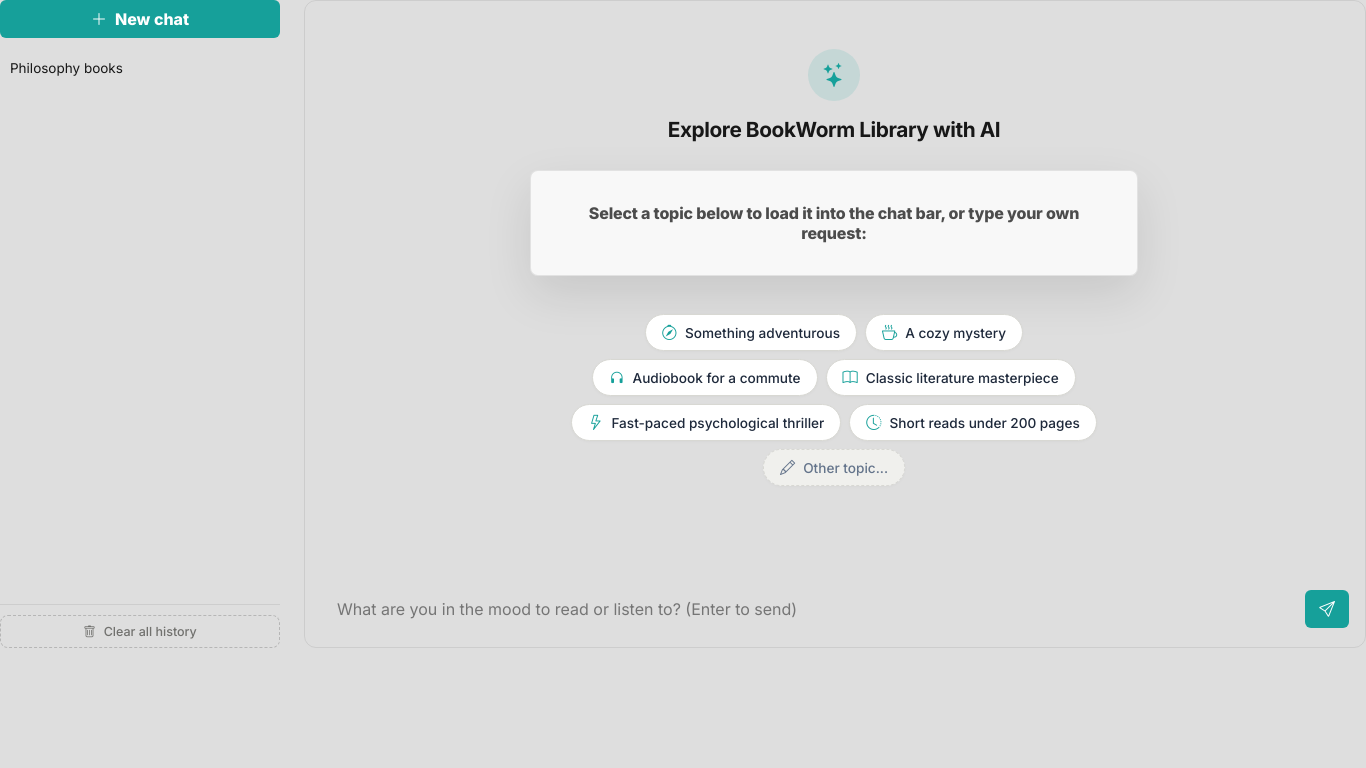
AiSuggestionsPage - Guided Quick Replies & Dynamic Thinking › active conversation displays header bar with Delete chat button
// Open conversation from sidebar
Click the button "Philosophy books": {"x": 127, "y": 68} [10, 52, 244, 84]
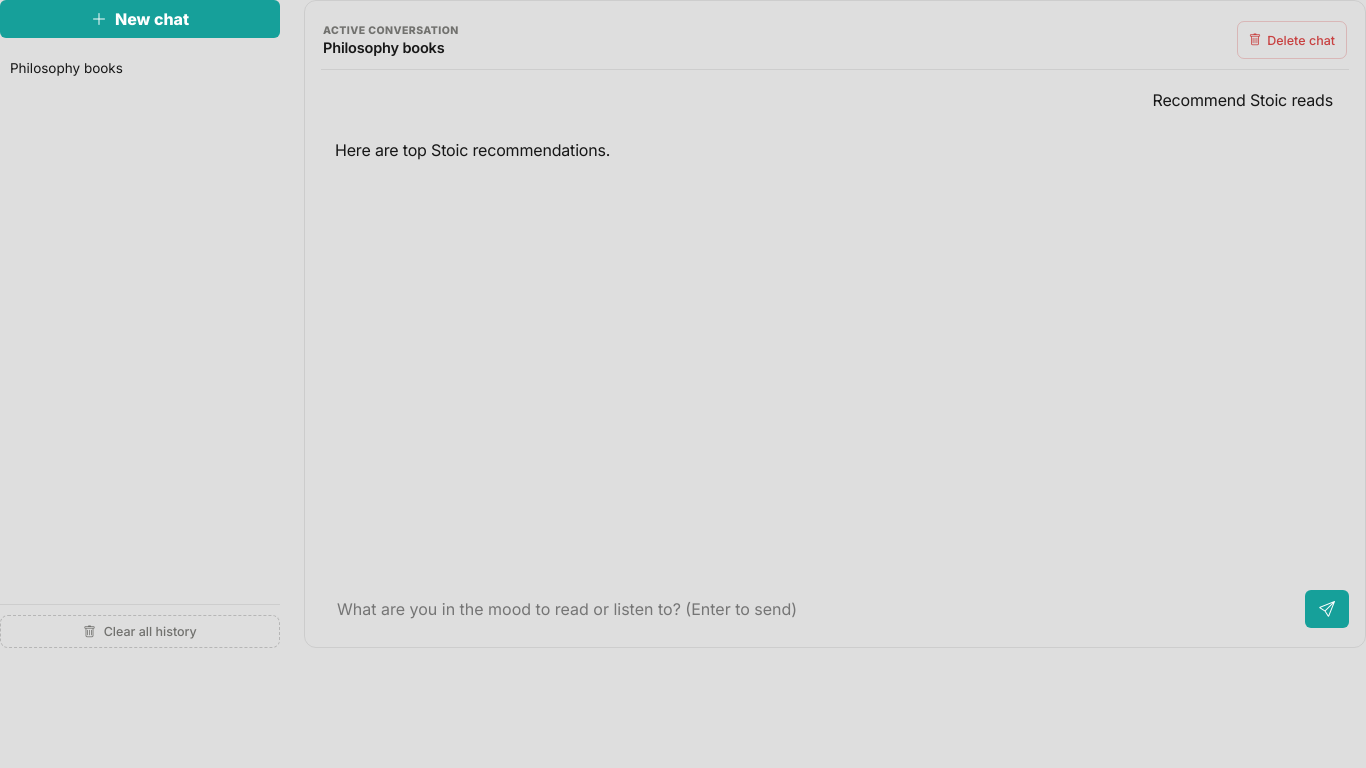
Result: the button "Delete chat" is shown
Result: the heading "Philosophy books" is shown at [323, 39, 444, 56]
// Clicking Delete chat opens confirmation modal
Click the button "Delete chat": {"x": 1292, "y": 40} [1237, 21, 1347, 59]
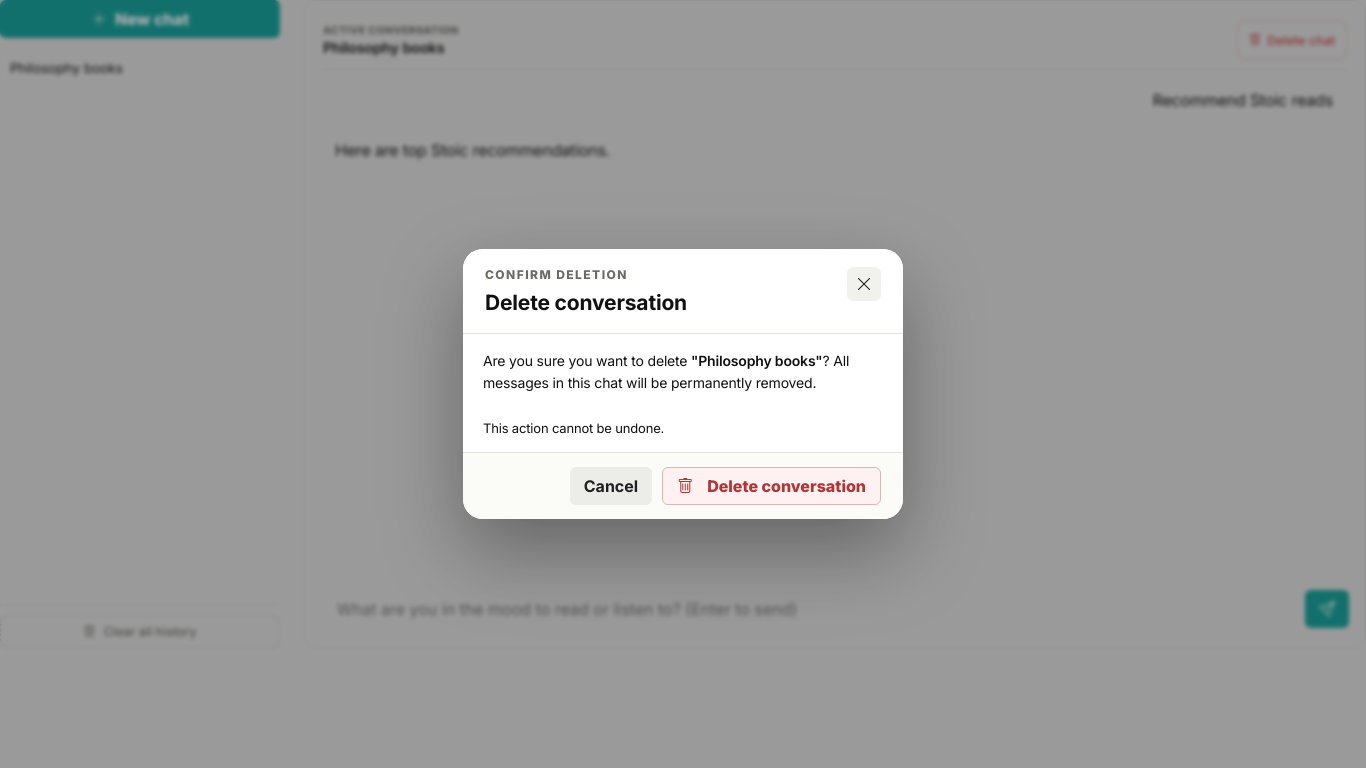
Result: the dialog is shown
// Confirm deletion
Click the button "Delete conversation": {"x": 772, "y": 486} [662, 468, 881, 506]
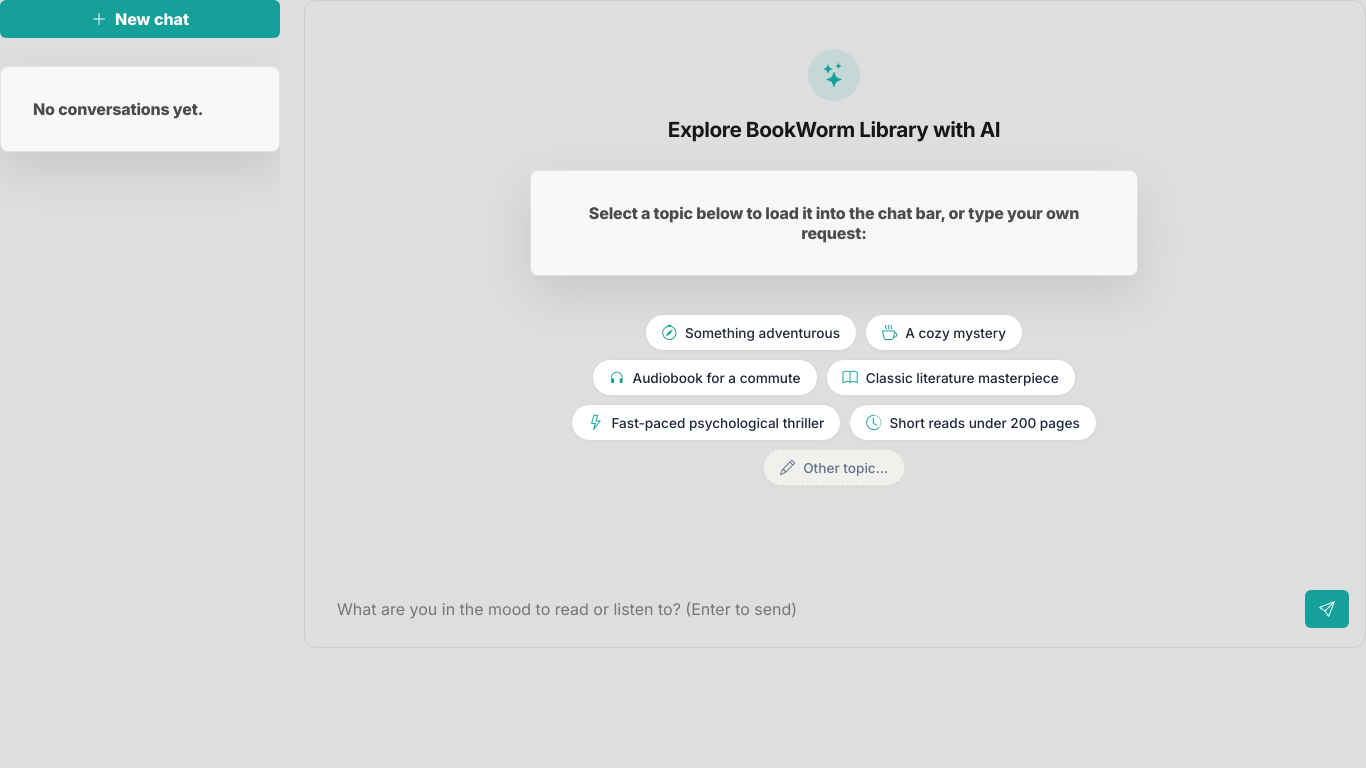
Result: the button "Philosophy books" is gone
